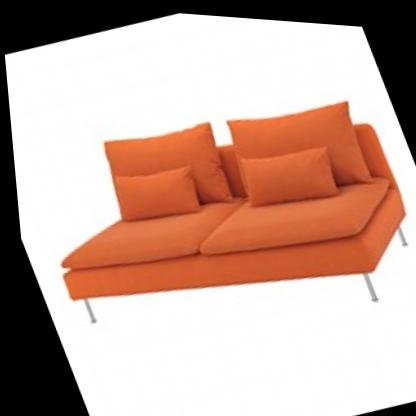Sofa: (2, 35, 416, 398)
